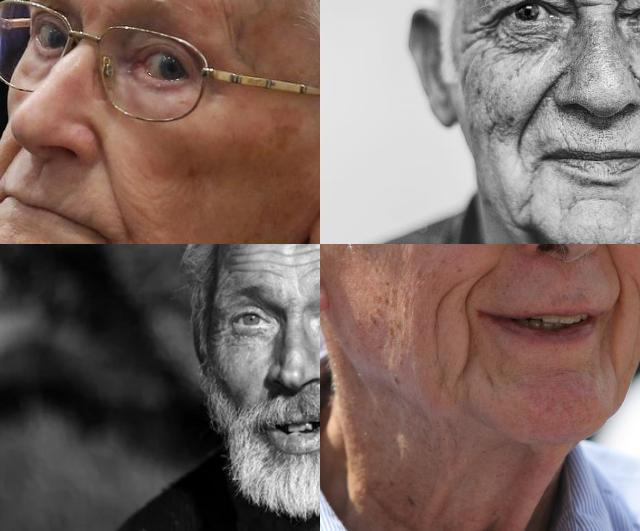chin: (566, 194, 626, 216), (606, 350, 626, 384), (480, 364, 498, 390), (514, 198, 536, 218)
crows_feet: (472, 16, 500, 44), (209, 316, 231, 346)
forehead: (203, 0, 245, 30), (273, 244, 312, 275), (231, 247, 263, 277)
frown_line: (571, 0, 592, 16)
gummy_smile: (100, 146, 128, 222), (514, 86, 550, 140), (600, 246, 628, 298), (0, 144, 22, 182), (473, 254, 499, 286)
masseter: (429, 285, 453, 343), (481, 117, 505, 159)
sad_smile: (458, 286, 478, 370), (526, 155, 542, 183)
